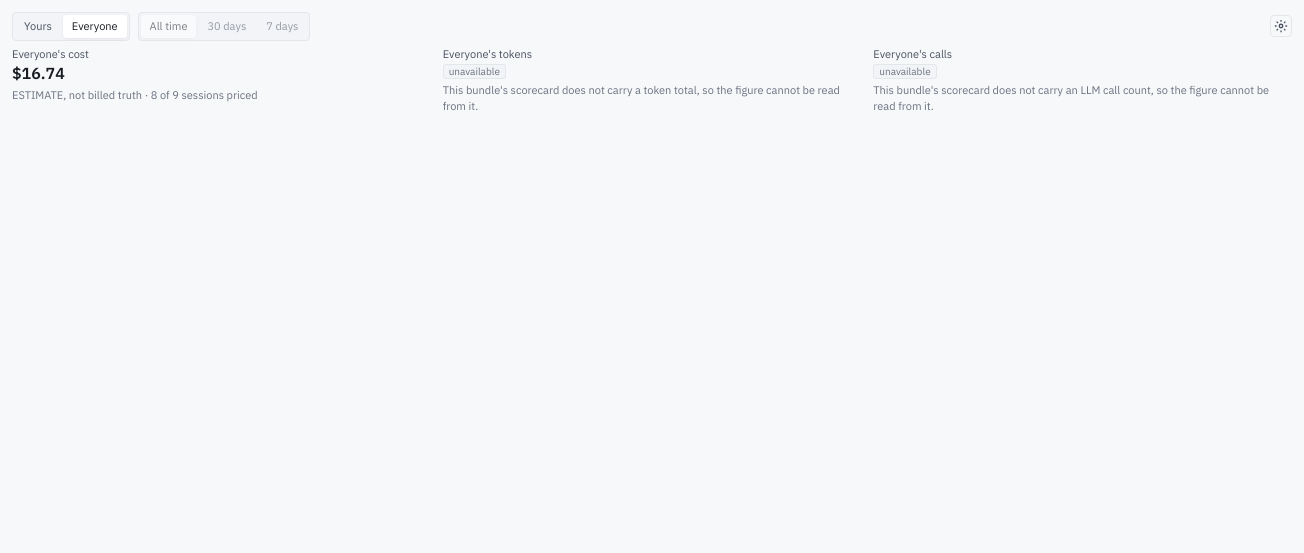
MetricBlock — absent against unmeasured › prints an available figure’s caveat unabridged too, where the keyboard reaches it
The width and height of the screenshot is (1304, 553).
Click the button with test id "metric-picker-toggle": {"x": 1281, "y": 26} [1270,15,1292,37]
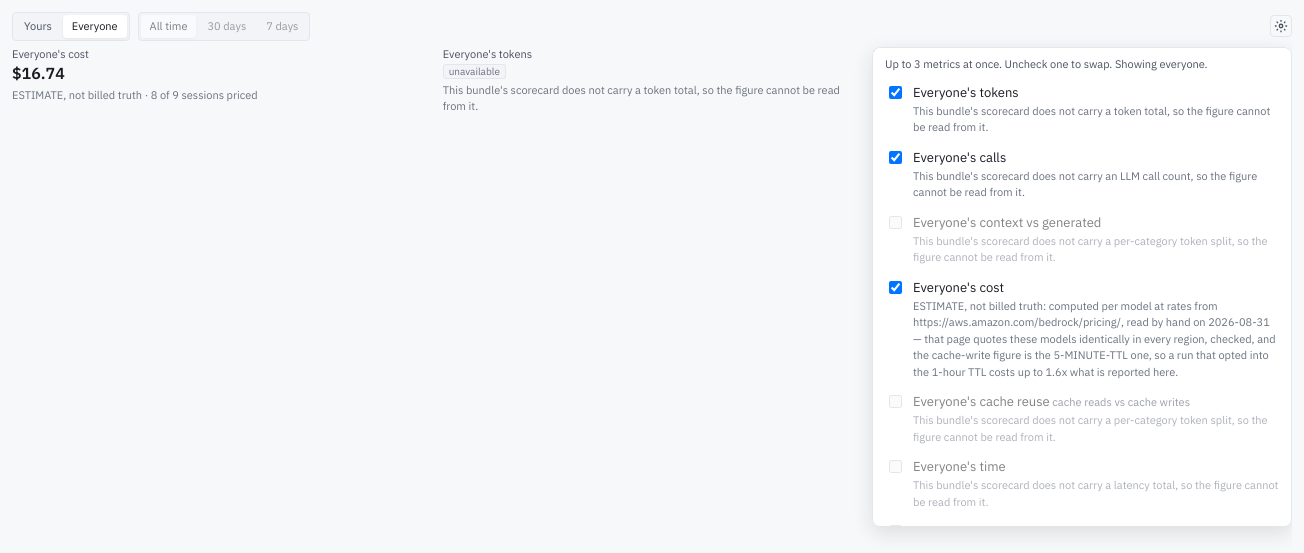
Expected: the text with test id "metric-option-caveat-cost" shows "https://aws.amazon.com/bedrock/pricing/", [913,298,1276,378]
Expected: the text with test id "metric-option-caveat-cost" shows "read by hand on 2026-08-31", [913,298,1276,378]
Expected: the text with test id "metric-option-caveat-cost" shows "identically in every region, checked", [913,298,1276,378]
